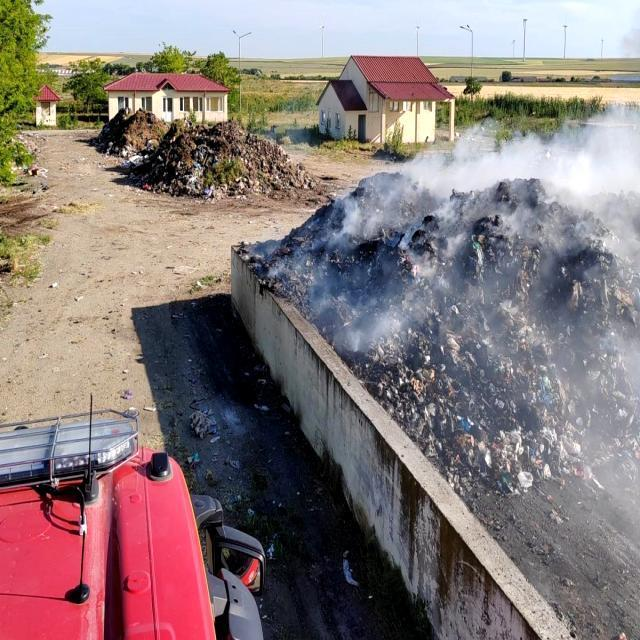Smoke: (352, 114, 640, 576)
